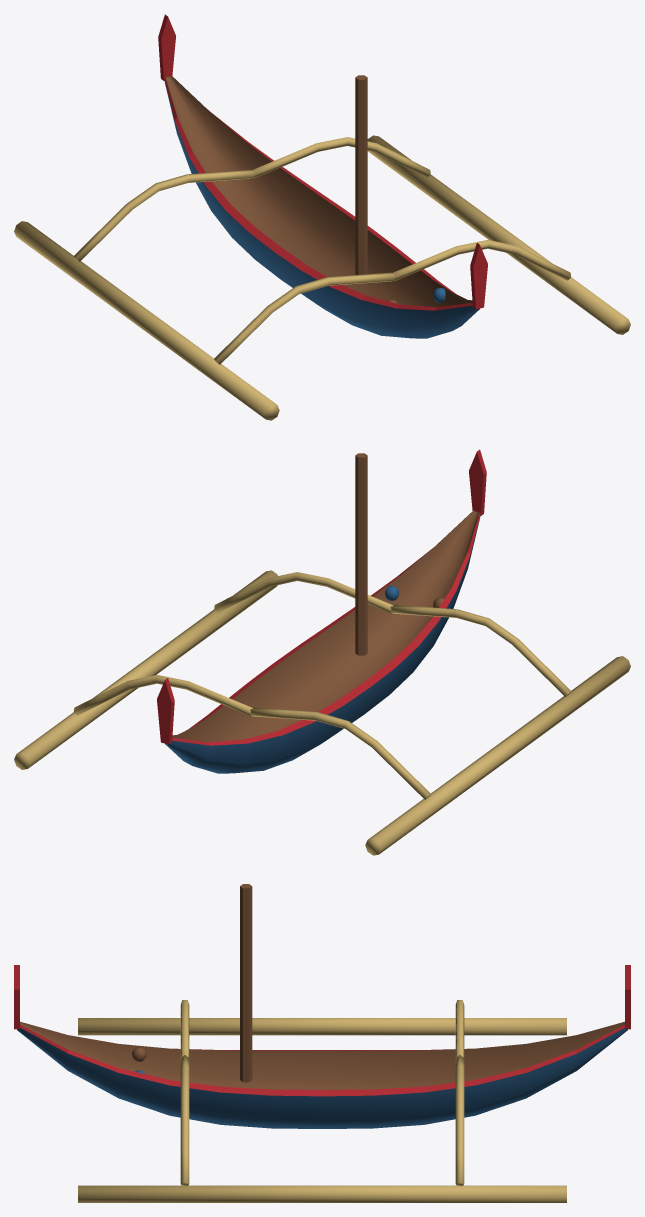
The model's file is perahu.glb.
3 views of the same model, one above another, from view 1: azimuth 30°, elevation 25°; view 2: azimuth 150°, elevation 25°; view 3: azimuth 270°, elevation 25° (orthographic). The views are drawn at different scales.
Parts seen in each view (by area): view 1: perahu_mesh; view 2: perahu_mesh; view 3: perahu_mesh.
Boxes of the visible parts, bbox=[...] form: perahu_mesh: bbox=[14, 14, 630, 420]; perahu_mesh: bbox=[14, 449, 630, 855]; perahu_mesh: bbox=[14, 884, 630, 1202].
Size of the model in its own units: 2.72 by 1.71 by 4.04.
